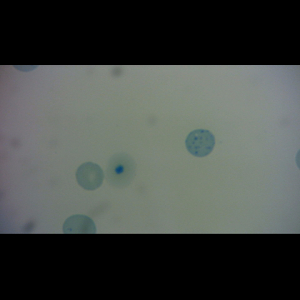aggregate reticulocyte: (184, 128, 217, 158)
erythrocyte: (74, 161, 105, 191)
